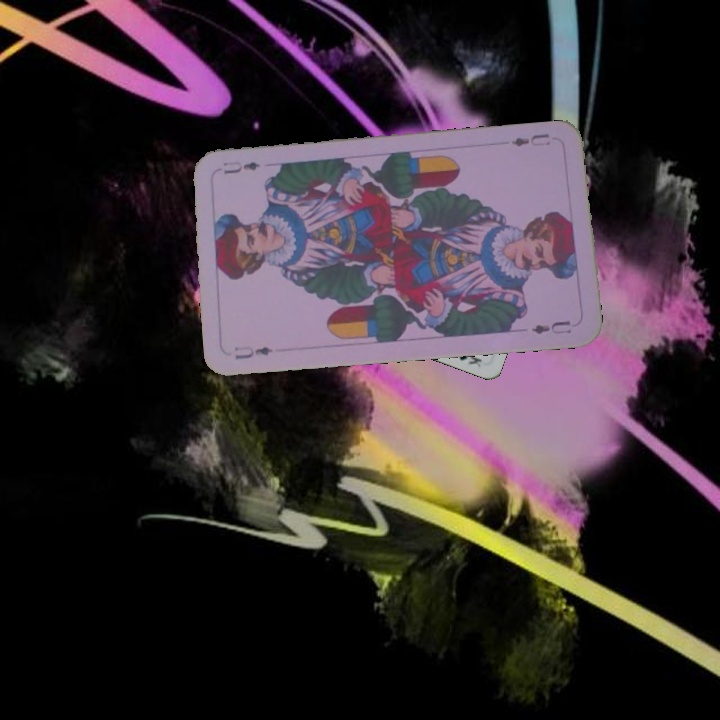EU: (507, 129, 553, 150), (230, 342, 275, 362)
